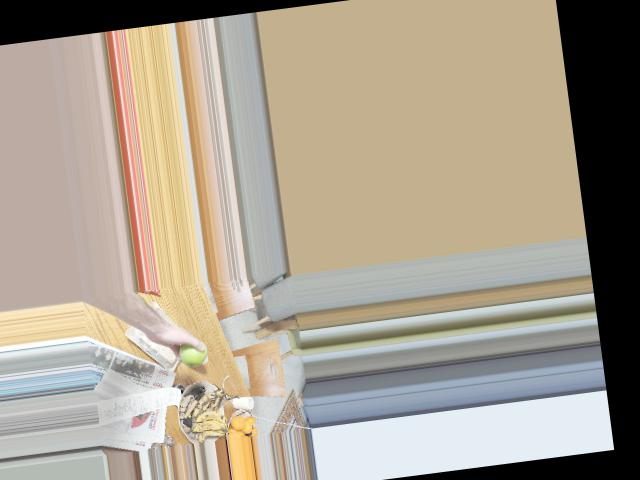apple: (174, 335, 210, 367)
